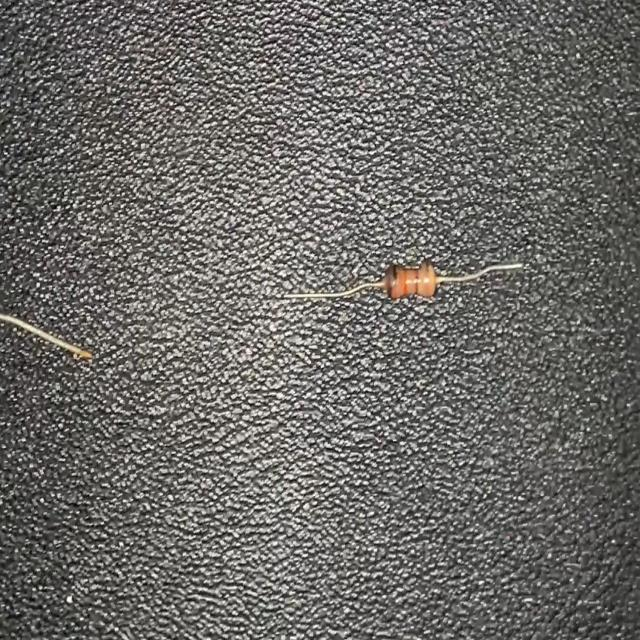burnt: (380, 264, 401, 300)
resistor: (282, 256, 526, 306)
